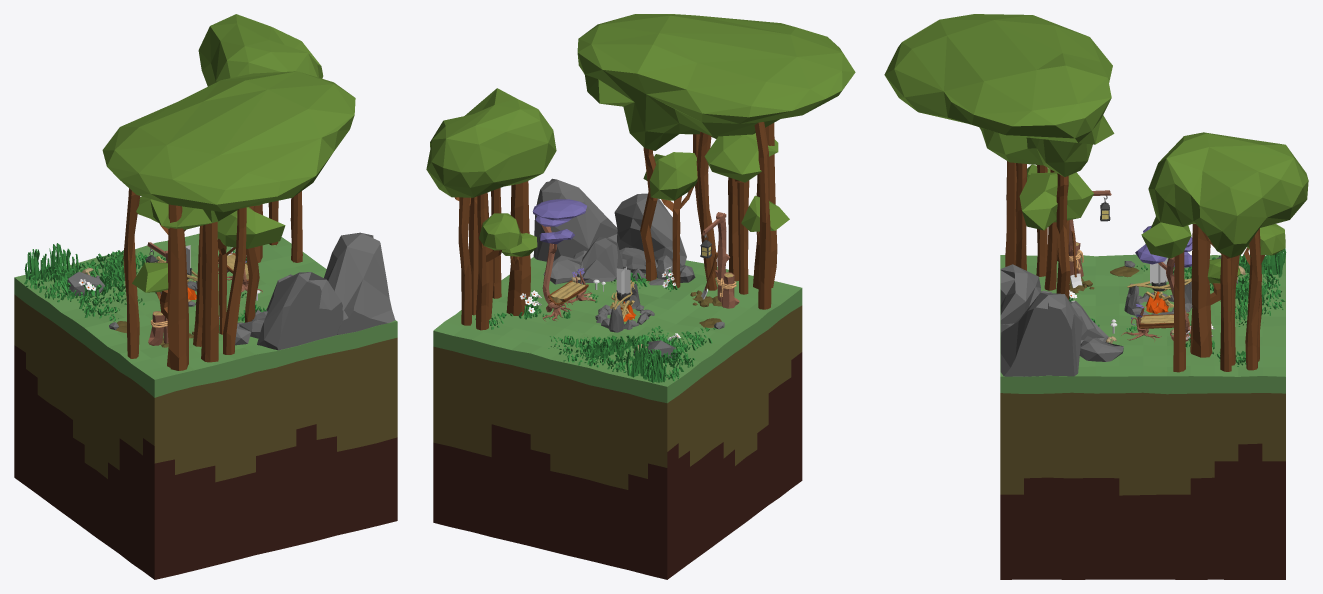
File: Campfire.fbx
3 renders of one model, left to right at view 1: azimuth 30°, elevation 25°; view 2: azimuth 150°, elevation 25°; view 3: azimuth 270°, elevation 25°, orthographic. The views are drawn at different scales.
Parts seen in each view (by area): view 1: Cube, Mball.010, Mball.000, Icosphere.027, Icosphere.028, Cylinder.009, Cylinder.010, Cylinder.006, Cylinder.007, Cylinder.011, Cylinder.004, Cylinder.012 (+3 smaller); view 2: Cube, Mball.010, Mball.000, Icosphere.027, Icosphere.028, Cylinder.006, Cylinder.001, Mball.011, Icosphere.006, Mball.006, Cylinder.002, Cylinder.012 (+11 smaller); view 3: Cube, Mball.010, Mball.000, Icosphere.027, Cylinder.001, Icosphere.028, Cylinder.005, Cylinder.003, Cylinder.011, Cylinder.004, Mball.011, Cylinder.010 (+7 smaller).
Part boxes in pixels (left/top/right/bottom): Cube: left=14, top=233, right=397, bottom=579; Mball.010: left=102, top=71, right=355, bottom=292; Mball.000: left=198, top=14, right=323, bottom=86; Icosphere.027: left=324, top=232, right=395, bottom=334; Icosphere.028: left=257, top=272, right=343, bottom=350; Cylinder.009: left=156, top=204, right=188, bottom=370; Cylinder.010: left=201, top=221, right=218, bottom=362; Cylinder.006: left=123, top=188, right=140, bottom=358; Cylinder.007: left=223, top=207, right=246, bottom=354; Cylinder.011: left=245, top=206, right=259, bottom=322; Cylinder.004: left=290, top=191, right=302, bottom=262; Cylinder.012: left=193, top=225, right=203, bottom=346; Cube: left=433, top=257, right=802, bottom=579; Mball.010: left=577, top=14, right=855, bottom=231; Mball.000: left=426, top=88, right=556, bottom=197; Icosphere.027: left=533, top=178, right=617, bottom=261; Icosphere.028: left=614, top=193, right=686, bottom=265; Cylinder.006: left=754, top=122, right=771, bottom=309; Cylinder.001: left=506, top=181, right=530, bottom=316; Mball.011: left=479, top=213, right=537, bottom=256; Icosphere.006: left=577, top=237, right=623, bottom=282; Mball.006: left=532, top=199, right=586, bottom=244; Cylinder.002: left=476, top=193, right=501, bottom=330; Cylinder.012: left=696, top=132, right=717, bottom=290; Cube: left=1000, top=254, right=1285, bottom=579; Mball.010: left=884, top=14, right=1114, bottom=230; Mball.000: left=1141, top=132, right=1308, bottom=258; Icosphere.027: left=1000, top=292, right=1082, bottom=376; Cylinder.001: left=1190, top=224, right=1220, bottom=357; Icosphere.028: left=1000, top=264, right=1040, bottom=332; Cylinder.005: left=1245, top=230, right=1261, bottom=370; Cylinder.003: left=1202, top=231, right=1237, bottom=371; Cylinder.011: left=1056, top=173, right=1070, bottom=299; Cylinder.004: left=1173, top=251, right=1185, bottom=372; Mball.011: left=1207, top=224, right=1285, bottom=283; Cylinder.010: left=1006, top=161, right=1016, bottom=266.
Size of the model in its own units: 2467 by 3409 by 2882.
